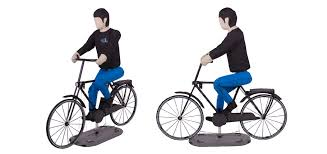stop: (161, 9, 292, 139), (45, 17, 138, 138)
